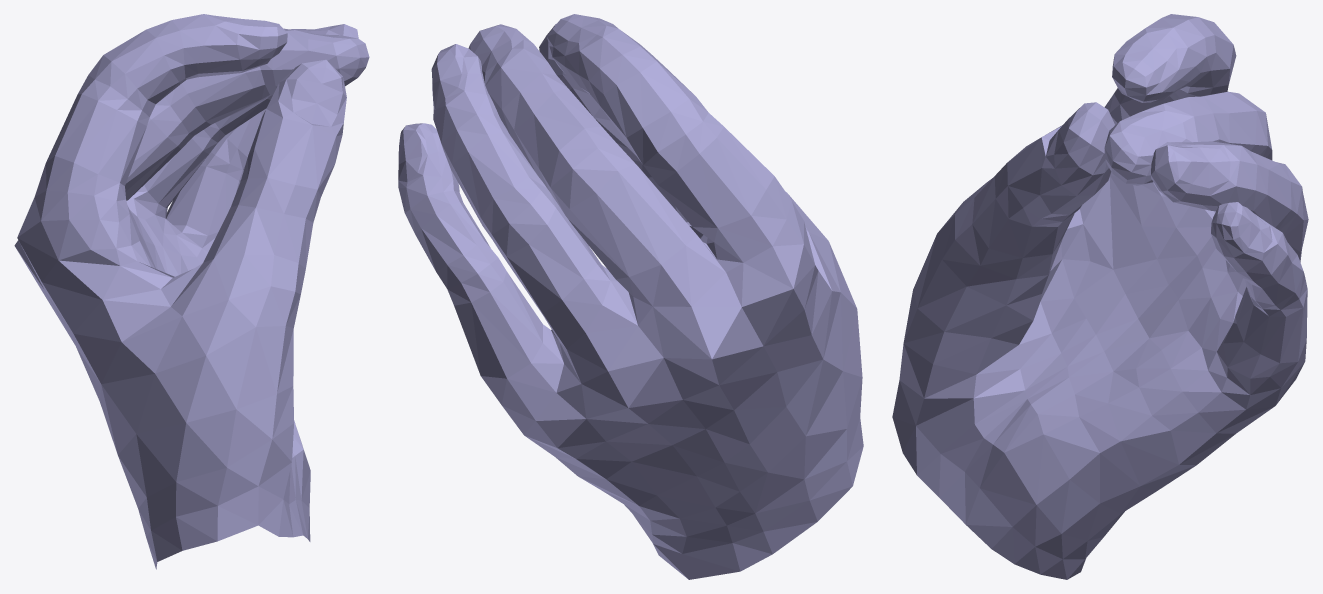
File: frame_0035_source_000035_hand.glb
3 renders of one model, left to right at view 1: azimuth 30°, elevation 25°; view 2: azimuth 150°, elevation 25°; view 3: azimuth 270°, elevation 25°, orthographic. The views are drawn at different scales.
Visible parts, largest first — view 1: world; view 2: world; view 3: world.
Part boxes in pixels (x1,y1,x2,y2): world: (14,14,369,569); world: (398,14,863,579); world: (892,14,1308,579).
Bounding box in the file's own units: 0.0977 × 0.1432 × 0.0958.
